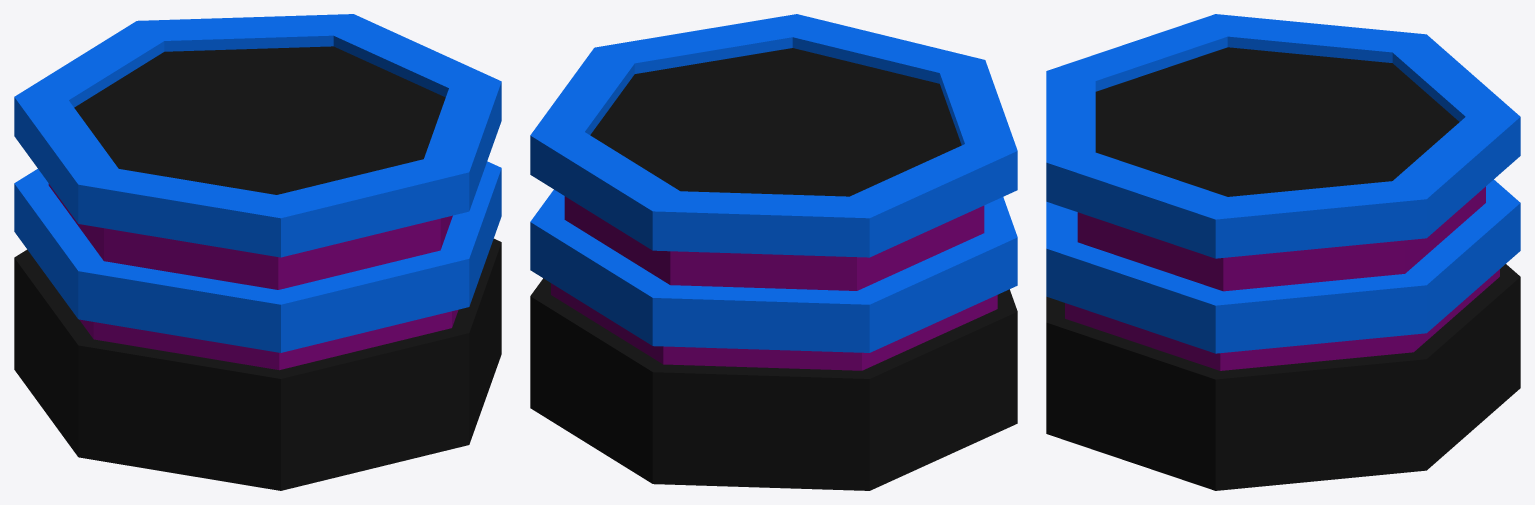
File: Teleporter.fbx
3 renders of one model, left to right at view 1: azimuth 30°, elevation 25°; view 2: azimuth 150°, elevation 25°; view 3: azimuth 270°, elevation 25°, orthographic.
Parts seen in each view (by area): view 1: Cylinder; view 2: Cylinder; view 3: Cylinder.
Boxes of the visible parts, x1,y1,x2,y2 form: Cylinder: [14, 14, 501, 490]; Cylinder: [530, 14, 1017, 490]; Cylinder: [1046, 14, 1520, 490].
Bounding box in the file's own units: 1.95 × 1.2 × 1.9.
